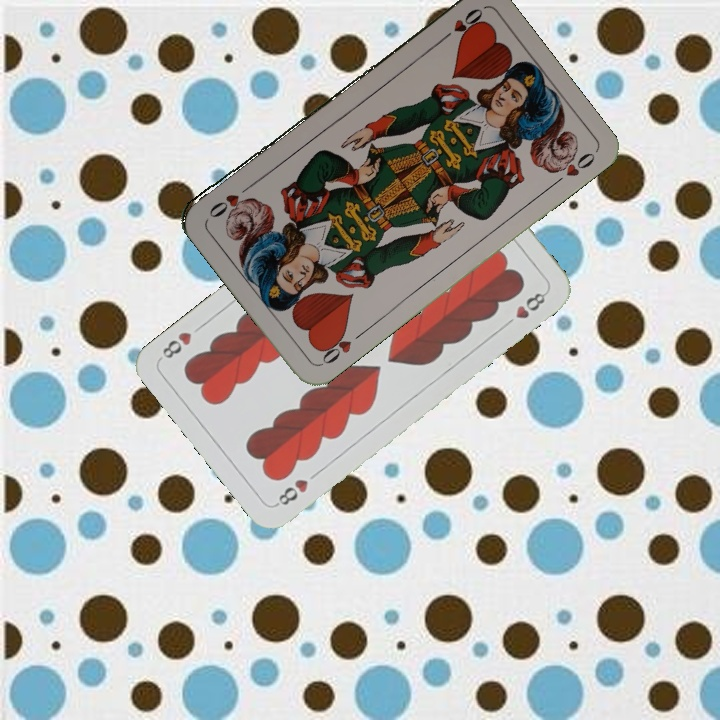H8: (271, 475, 311, 509)
HO: (314, 326, 368, 368), (435, 3, 486, 46)
